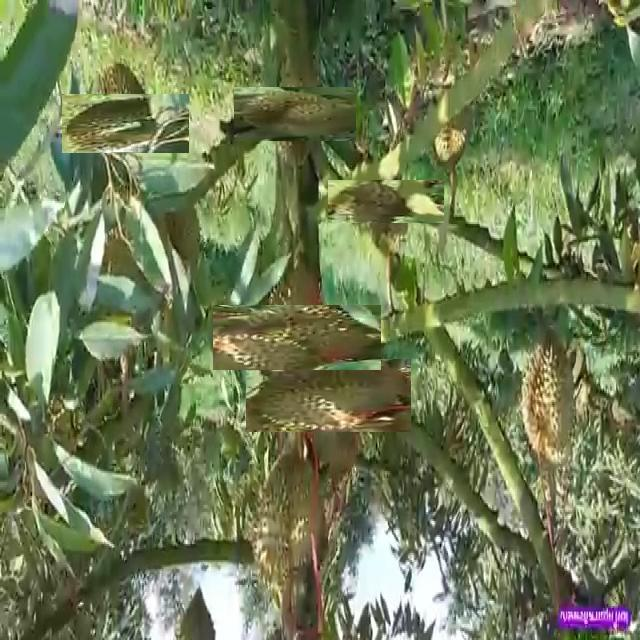durian: (269, 336, 388, 454), (248, 443, 334, 605), (238, 280, 356, 396), (79, 76, 172, 170), (251, 70, 340, 158), (519, 334, 577, 468), (425, 41, 474, 179), (346, 162, 426, 242)
